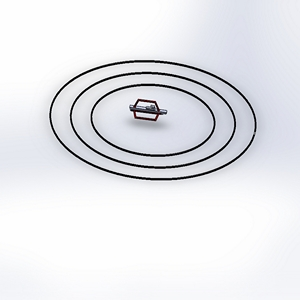circle: (39, 54, 261, 185)
submarine: (123, 94, 176, 131)
